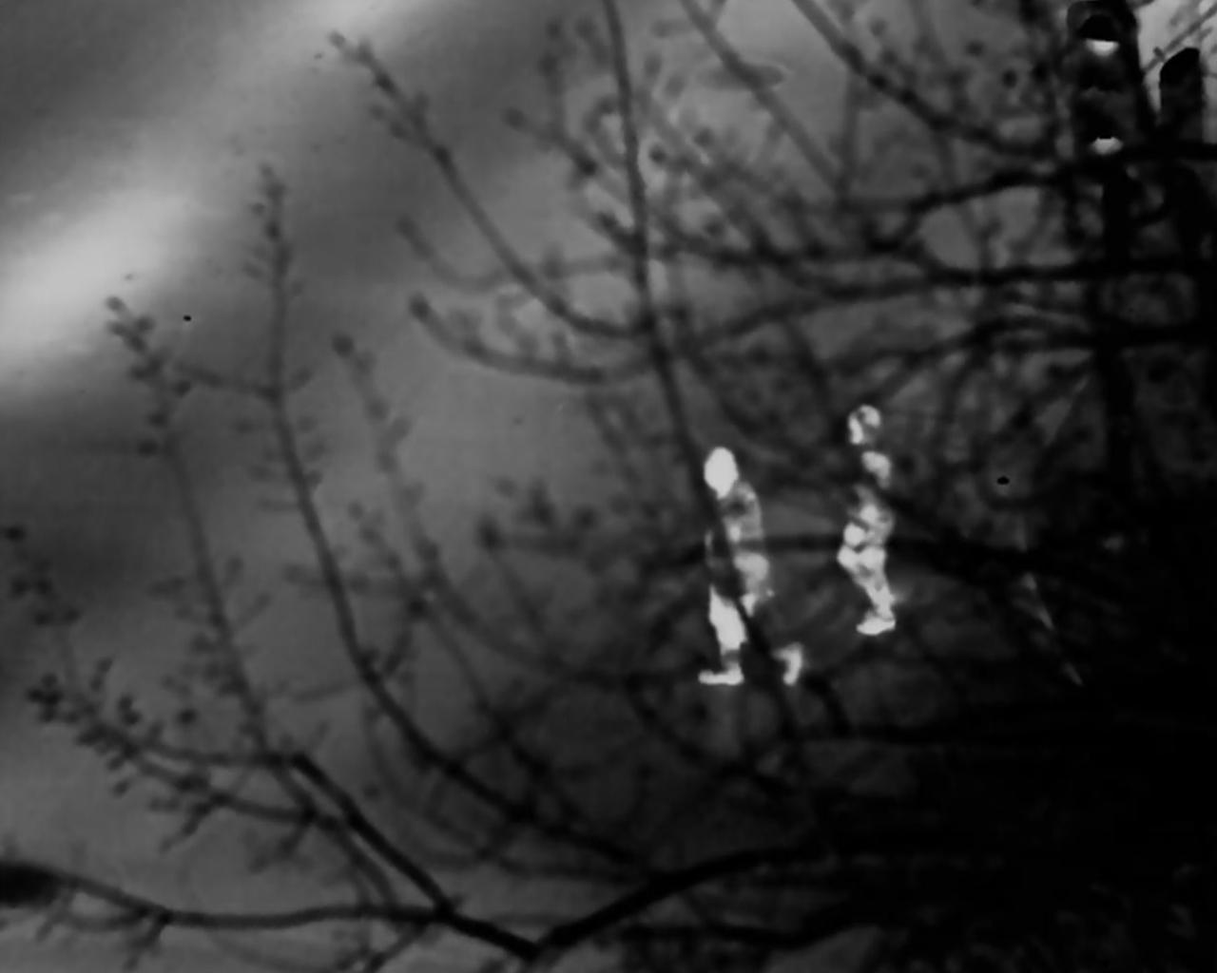person: (689, 447, 802, 693), (837, 393, 911, 637)
